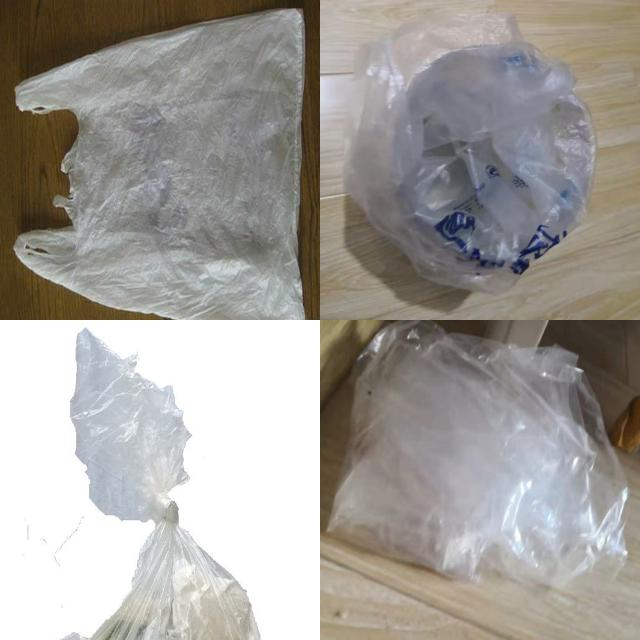Single-layer Plastic: (15, 10, 304, 319), (328, 321, 628, 586), (345, 14, 596, 292), (70, 329, 260, 639)
